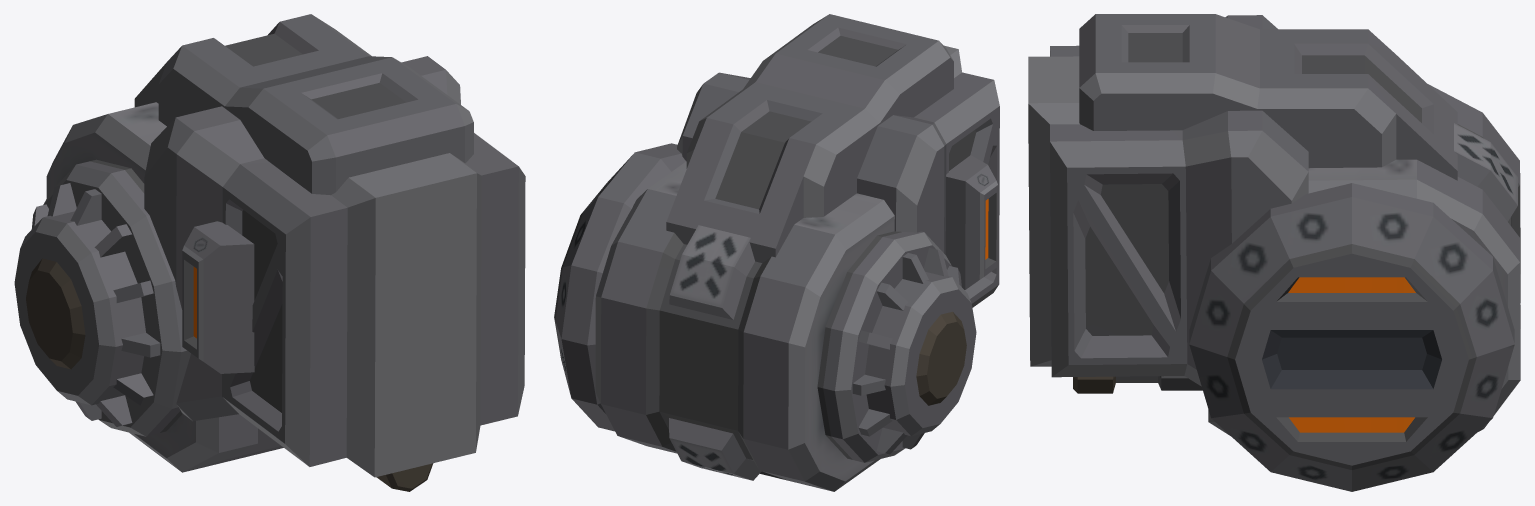
File: mech_SM_Mech_Shoulder_01_Frame_01.gltf
3 views of the same model, side by side, from view 1: azimuth 30°, elevation 25°; view 2: azimuth 150°, elevation 25°; view 3: azimuth 270°, elevation 25° (orthographic). The views are drawn at different scales.
Visible parts, largest first — view 1: SM_Mech_Shoulder_01_Frame_01; view 2: SM_Mech_Shoulder_01_Frame_01; view 3: SM_Mech_Shoulder_01_Frame_01.
Part boxes in pixels (x1,y1,x2,y2): SM_Mech_Shoulder_01_Frame_01: [14, 14, 525, 491]; SM_Mech_Shoulder_01_Frame_01: [554, 14, 999, 491]; SM_Mech_Shoulder_01_Frame_01: [1028, 14, 1520, 491].
Size of the model in its own units: 0.6194 by 0.5931 by 0.7043.
Materials: 1 (1 with a texture image).
